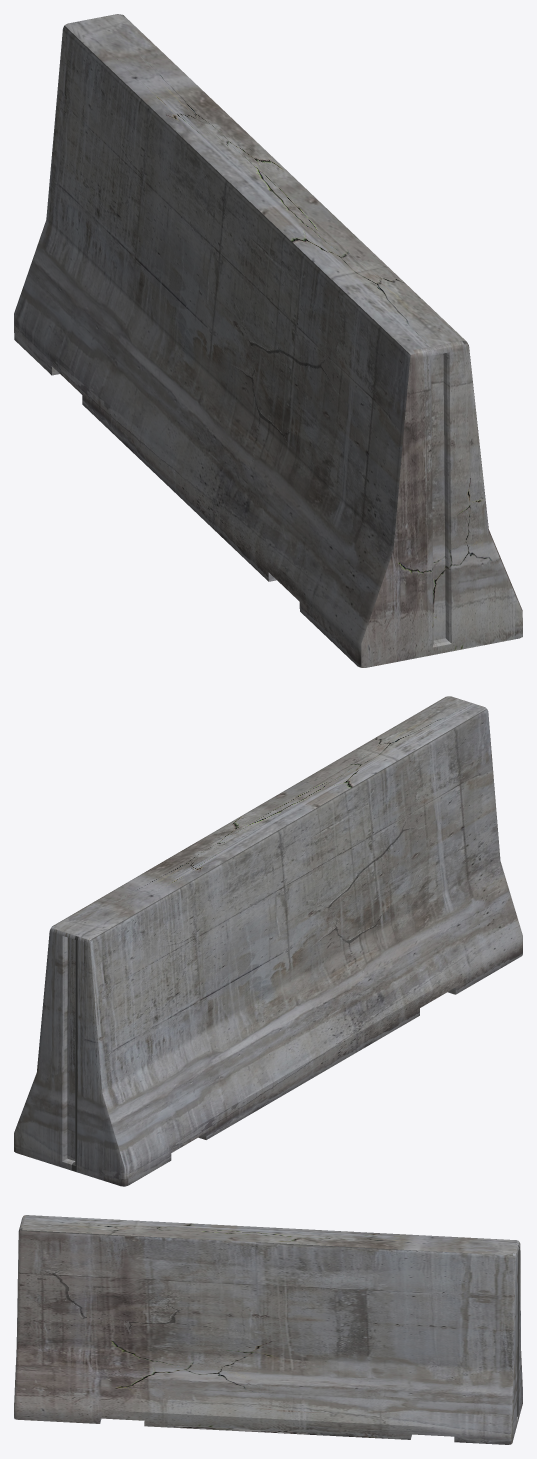
The model's file is City_Barricade011.fbx.
3 renders of one model, top to bottom at view 1: azimuth 30°, elevation 25°; view 2: azimuth 150°, elevation 25°; view 3: azimuth 270°, elevation 25°, orthographic. The views are drawn at different scales.
Visible parts, largest first — view 1: Barricade_011; view 2: Barricade_011; view 3: Barricade_011.
Part boxes in pixels (x1=…): Barricade_011: x1=14, y1=14, x2=522, y2=667; Barricade_011: x1=14, y1=696, x2=522, y2=1186; Barricade_011: x1=14, y1=1215, x2=522, y2=1444.
Size of the model in its own units: 93.77 by 117 by 302.
1 material, 1 textured.
